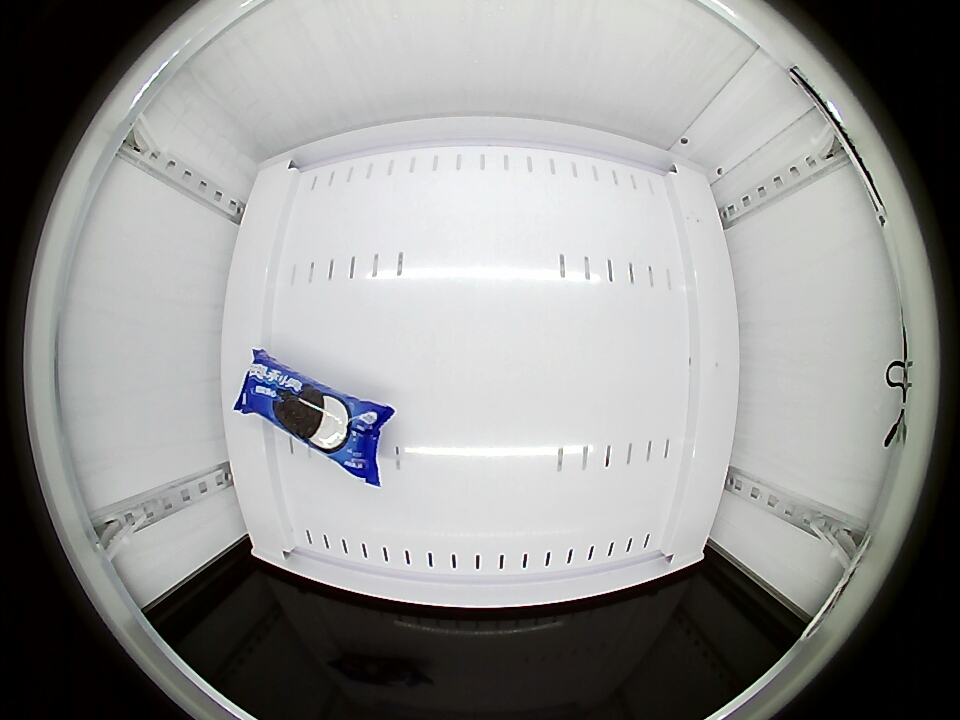aoliao: (242, 357, 372, 471)
